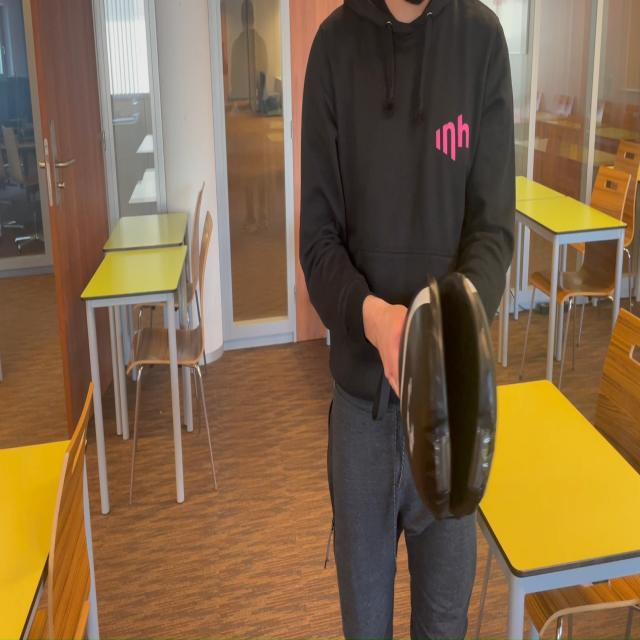paddle: (402, 288, 496, 512)
